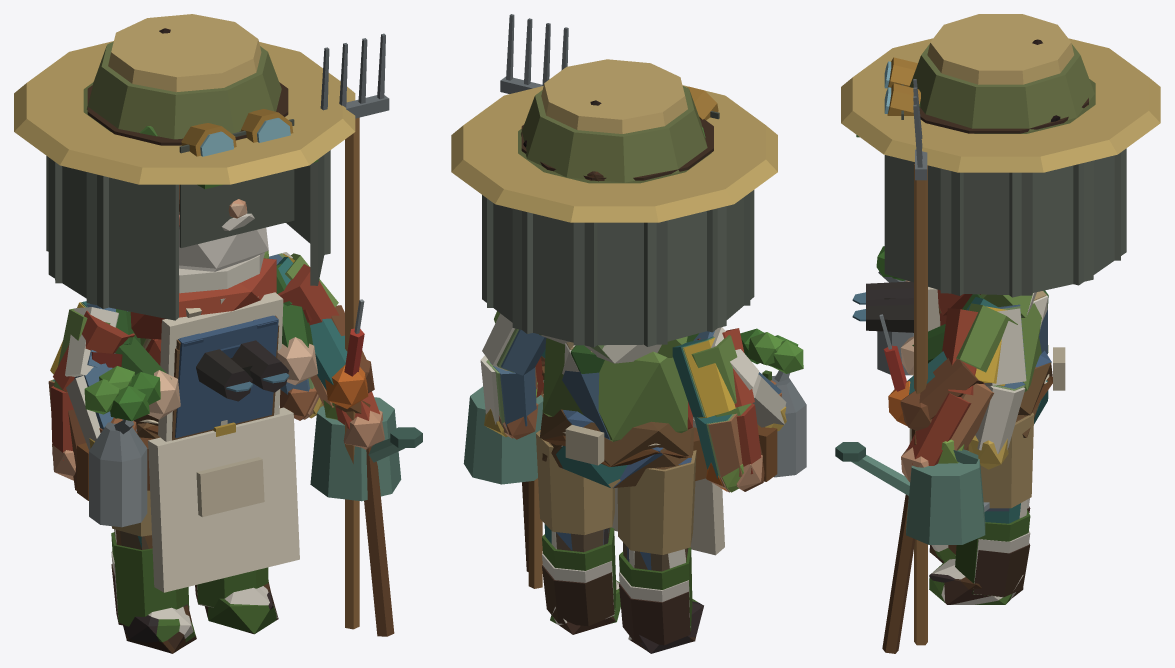
Rendered from npcs.glb.
The picture shows the model from 3 angles, left to right: view 1: azimuth 30°, elevation 25°; view 2: azimuth 150°, elevation 25°; view 3: azimuth 270°, elevation 25°; orthographic projection. The views are drawn at different scales.
Visible parts, largest first — view 1: npc_gus_head, npc_lila_body, npc_sam_head, npc_gus_body, npc_jo_body, npc_sam_body, npc_robin_body, npc_robin_head, npc_pat_body, npc_maya_body, npc_maya_head; view 2: npc_sam_head, npc_gus_head, npc_jo_body, npc_pat_body, npc_lila_body, npc_sam_body, npc_robin_head, npc_robin_body, npc_maya_body, npc_gus_body, npc_maya_head, npc_folk_body; view 3: npc_sam_head, npc_gus_head, npc_jo_body, npc_pat_body, npc_robin_head, npc_gus_body, npc_sam_body, npc_robin_body, npc_maya_body, npc_maya_head, npc_lila_body, npc_folk_body.
Part boxes in pixels (x1,y1,x2,y2): npc_gus_head: [14, 14, 355, 271]; npc_lila_body: [74, 254, 317, 653]; npc_sam_head: [46, 119, 330, 320]; npc_gus_body: [50, 258, 394, 653]; npc_jo_body: [54, 33, 389, 642]; npc_sam_body: [65, 252, 323, 638]; npc_robin_body: [111, 263, 317, 647]; npc_robin_head: [83, 41, 281, 226]; npc_pat_body: [48, 253, 422, 624]; npc_maya_body: [53, 257, 368, 642]; npc_maya_head: [87, 82, 293, 214]; npc_sam_head: [482, 111, 754, 347]; npc_gus_head: [451, 59, 777, 222]; npc_jo_body: [494, 14, 764, 631]; npc_pat_body: [463, 337, 743, 625]; npc_lila_body: [490, 328, 803, 624]; npc_sam_body: [480, 313, 806, 639]; npc_robin_head: [518, 86, 711, 183]; npc_robin_body: [542, 333, 698, 645]; npc_maya_body: [541, 336, 731, 653]; npc_gus_body: [522, 328, 762, 649]; npc_maya_head: [521, 86, 718, 180]; npc_folk_body: [486, 328, 734, 648]; npc_sam_head: [884, 84, 1126, 297]; npc_gus_head: [841, 14, 1160, 172]; npc_jo_body: [900, 79, 1052, 645]; npc_pat_body: [835, 306, 1033, 604]; npc_robin_head: [909, 44, 1095, 133]; npc_gus_body: [882, 289, 1051, 653]; npc_sam_body: [877, 271, 1047, 596]; npc_robin_body: [852, 280, 1048, 597]; npc_maya_body: [879, 297, 1052, 582]; npc_maya_head: [884, 57, 1088, 133]; npc_lila_body: [876, 246, 1065, 589]; npc_folk_body: [944, 306, 1026, 604].
Size of the model in its own units: 0.5762 by 0.9922 by 0.5308.
